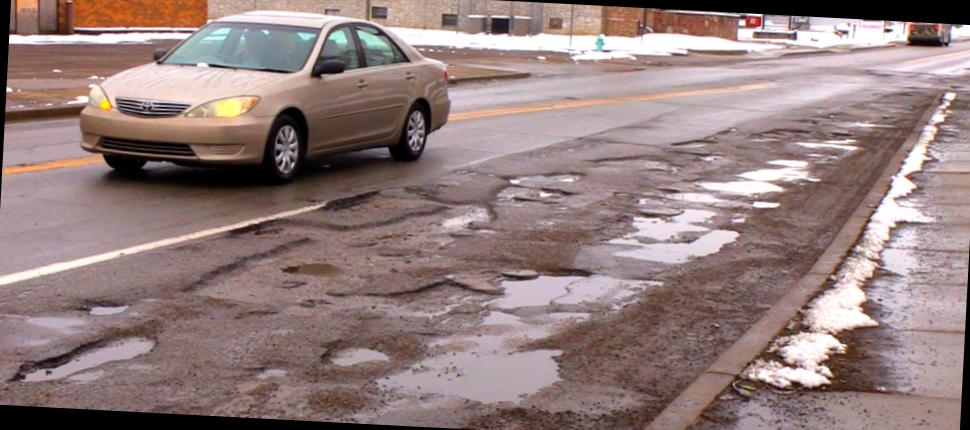pothole: (335, 251, 602, 424), (236, 178, 499, 258), (5, 310, 173, 399), (598, 178, 742, 276), (490, 162, 587, 219), (692, 164, 790, 220), (752, 145, 824, 202), (586, 145, 687, 179), (271, 247, 356, 286), (741, 115, 818, 154), (321, 333, 403, 369), (70, 288, 140, 326), (796, 133, 862, 162), (659, 130, 727, 155), (826, 114, 902, 134), (682, 146, 734, 168), (805, 102, 843, 125), (714, 116, 743, 138)
